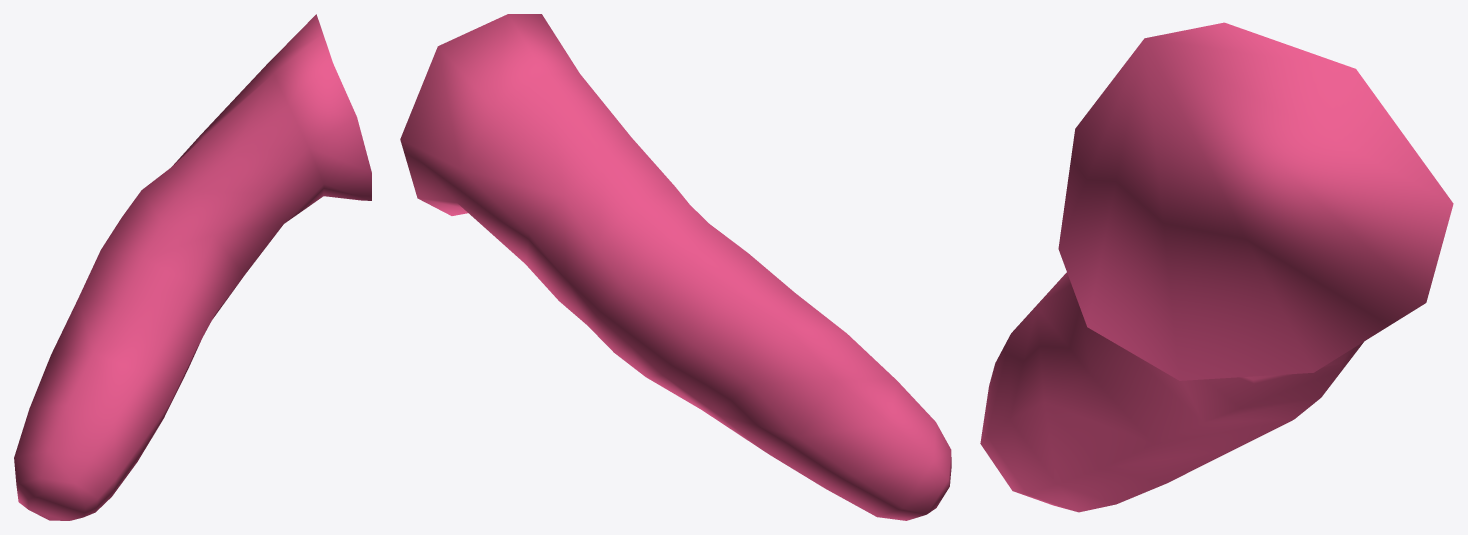
Rendered from rightHandEnemy.fbx.
3 renders of one model, left to right at view 1: azimuth 30°, elevation 25°; view 2: azimuth 150°, elevation 25°; view 3: azimuth 270°, elevation 25°, orthographic. The views are drawn at different scales.
Visible parts, largest first — view 1: Stickman_heads_sphere.003; view 2: Stickman_heads_sphere.003; view 3: Stickman_heads_sphere.003.
Part boxes in pixels (x1=…): Stickman_heads_sphere.003: x1=14, y1=14, x2=371, y2=520; Stickman_heads_sphere.003: x1=400, y1=14, x2=951, y2=520; Stickman_heads_sphere.003: x1=980, y1=22, x2=1453, y2=512.
Bounding box in the file's own units: 0.4877 × 0.4753 × 0.2657.
1 material, 1 textured.
